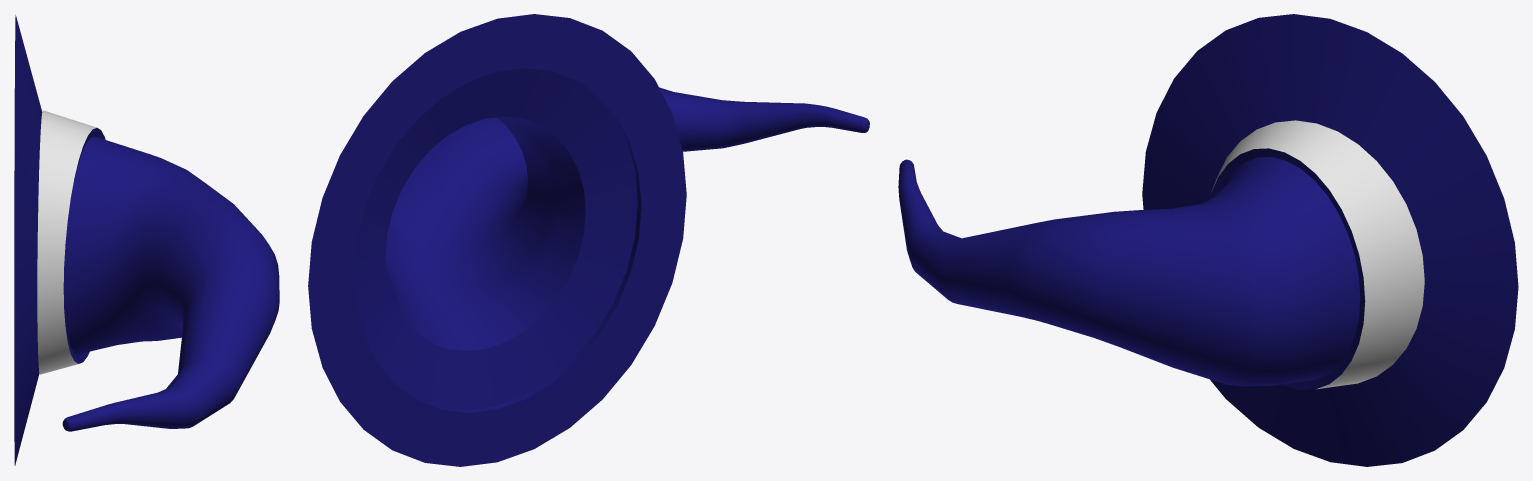
The model's file is WitchyHat_Back.fbx.
3 views of the same model, side by side, from view 1: azimuth 30°, elevation 25°; view 2: azimuth 150°, elevation 25°; view 3: azimuth 270°, elevation 25° (orthographic). The views are drawn at different scales.
Parts seen in each view (by area): view 1: WitchyHat_Back; view 2: WitchyHat_Back; view 3: WitchyHat_Back.
Boxes of the visible parts, <box> form: WitchyHat_Back: <box>14,15,279,465</box>; WitchyHat_Back: <box>308,14,869,466</box>; WitchyHat_Back: <box>898,14,1518,466</box>.
Size of the model in its own units: 0.2561 by 0.3233 by 0.4097.
